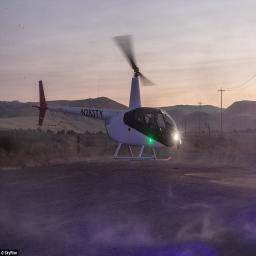helicopter: (38, 34, 182, 166)
